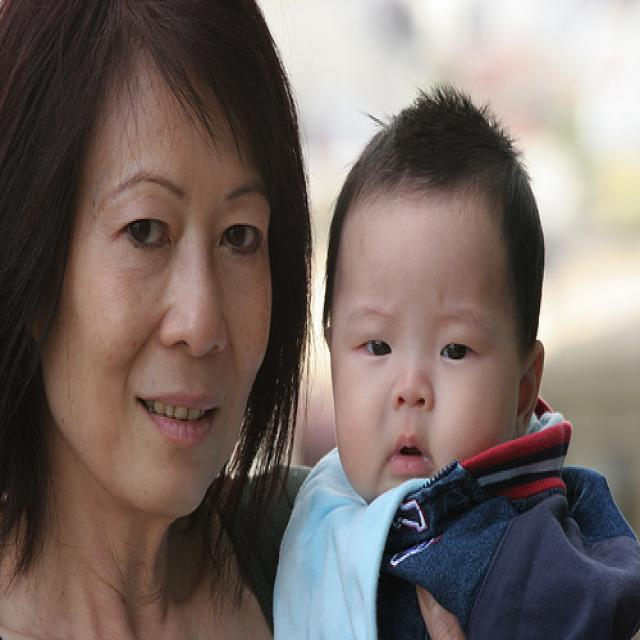person: (1, 5, 315, 639), (283, 84, 640, 639)
